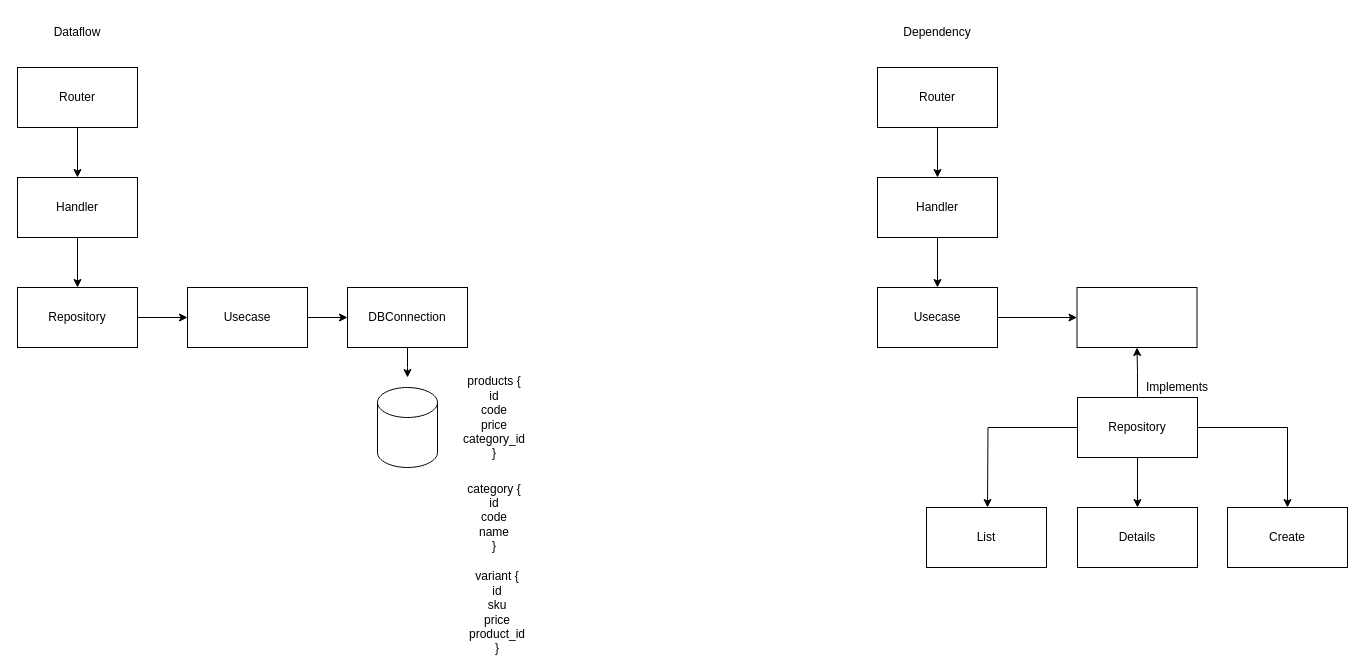
The diagram is 1365 pixels wide and 672 high, and some of its shapes have lost their labels. Here are the shapes that lost their labels. From the top down, the box of each, then its label:
(1076, 286, 1197, 348): IRepository
(376, 386, 438, 468): Postgres
